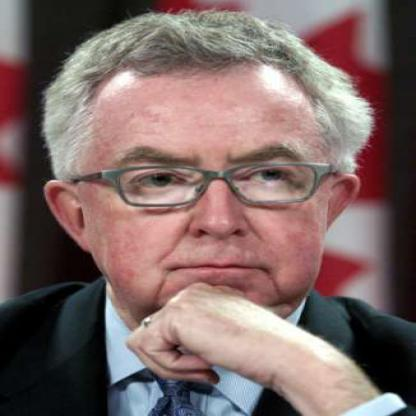face: (78, 22, 339, 338)
